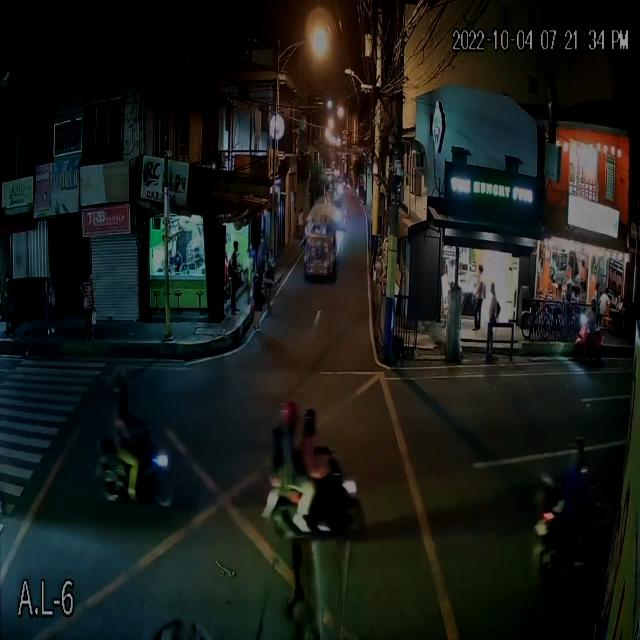Full-Faced: (281, 395, 301, 433), (111, 373, 131, 411), (303, 404, 319, 438)
